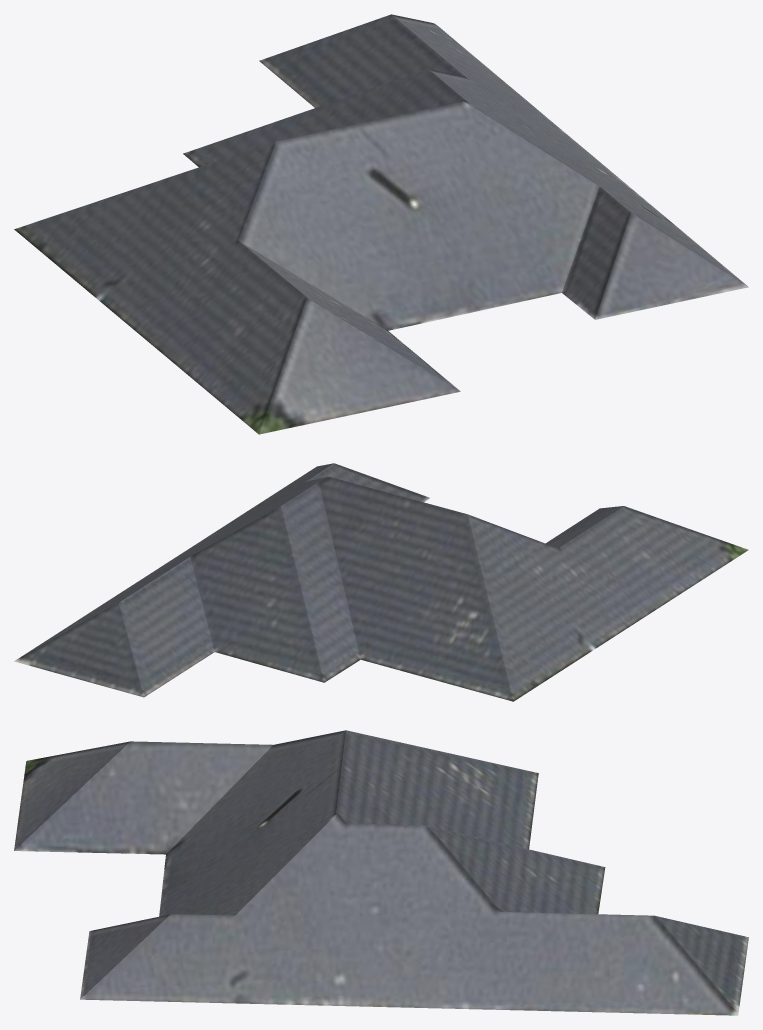
Rendered from CG10_500_039064_0034_roof.obj.
3 renders of one model, top to bottom at view 1: azimuth 30°, elevation 25°; view 2: azimuth 150°, elevation 25°; view 3: azimuth 270°, elevation 25°, orthographic. The views are drawn at different scales.
Parts seen in each view (by area): view 1: CG10_500_039064_0034_roof; view 2: CG10_500_039064_0034_roof; view 3: CG10_500_039064_0034_roof.
Part boxes in pixels (box(x1,y1,x2,y2)): CG10_500_039064_0034_roof: box(14, 14, 748, 434); CG10_500_039064_0034_roof: box(14, 463, 748, 701); CG10_500_039064_0034_roof: box(14, 730, 748, 1015).
Bounding box in the file's own units: 328 × 70 × 400.
Materials: 1 (1 with a texture image).
